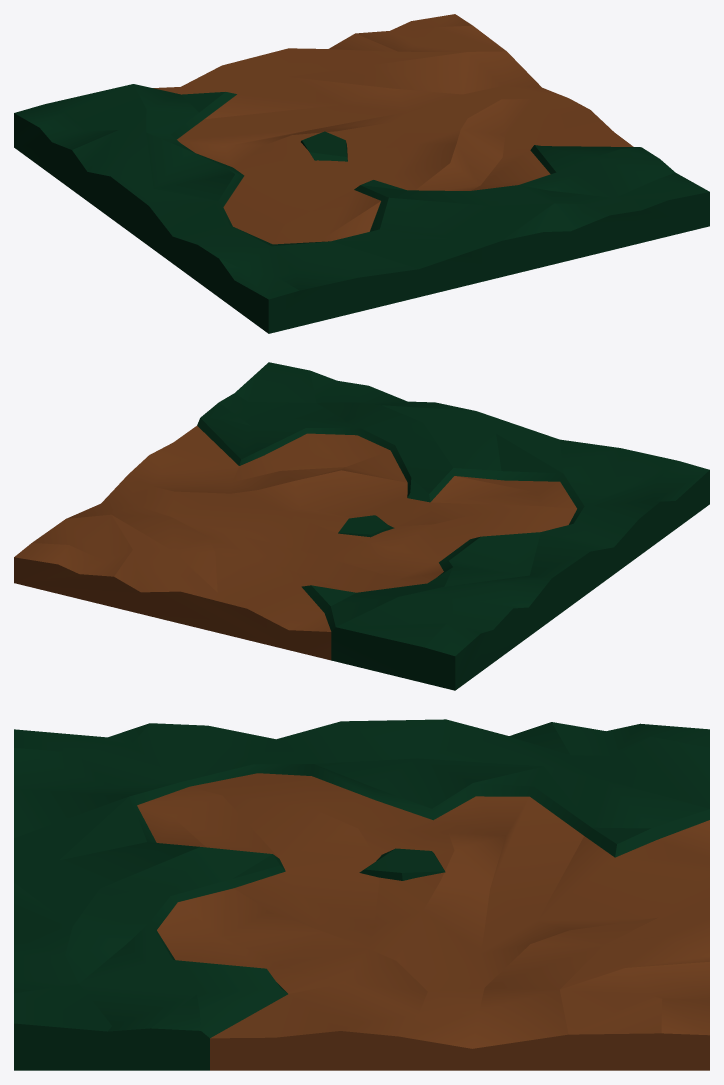
Rendered from Ground_Corner_Internal_LB_1.fbx.
3 views of the same model, one above another, from view 1: azimuth 30°, elevation 25°; view 2: azimuth 150°, elevation 25°; view 3: azimuth 270°, elevation 25° (orthographic). The views are drawn at different scales.
Parts seen in each view (by area): view 1: Ground_Corner_Internal_LB_1; view 2: Ground_Corner_Internal_LB_1; view 3: Ground_Corner_Internal_LB_1.
Part boxes in pixels (left/top/right/bottom): Ground_Corner_Internal_LB_1: left=14, top=14, right=709, bottom=333; Ground_Corner_Internal_LB_1: left=14, top=362, right=709, bottom=690; Ground_Corner_Internal_LB_1: left=14, top=719, right=709, bottom=1070.
Size of the model in its own units: 147 by 14.26 by 147.
